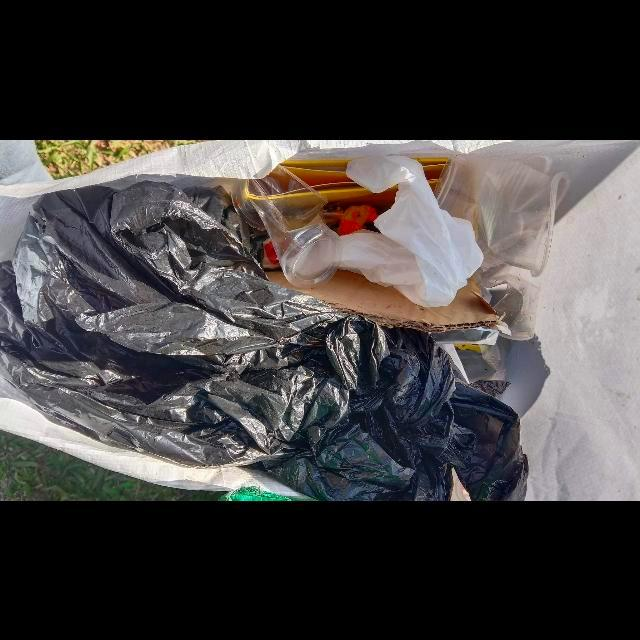cardboard: (265, 269, 498, 332)
paper: (337, 154, 484, 307)
plastic_bag: (0, 181, 530, 501)
plastic_container: (434, 154, 570, 277), (230, 164, 342, 288)
